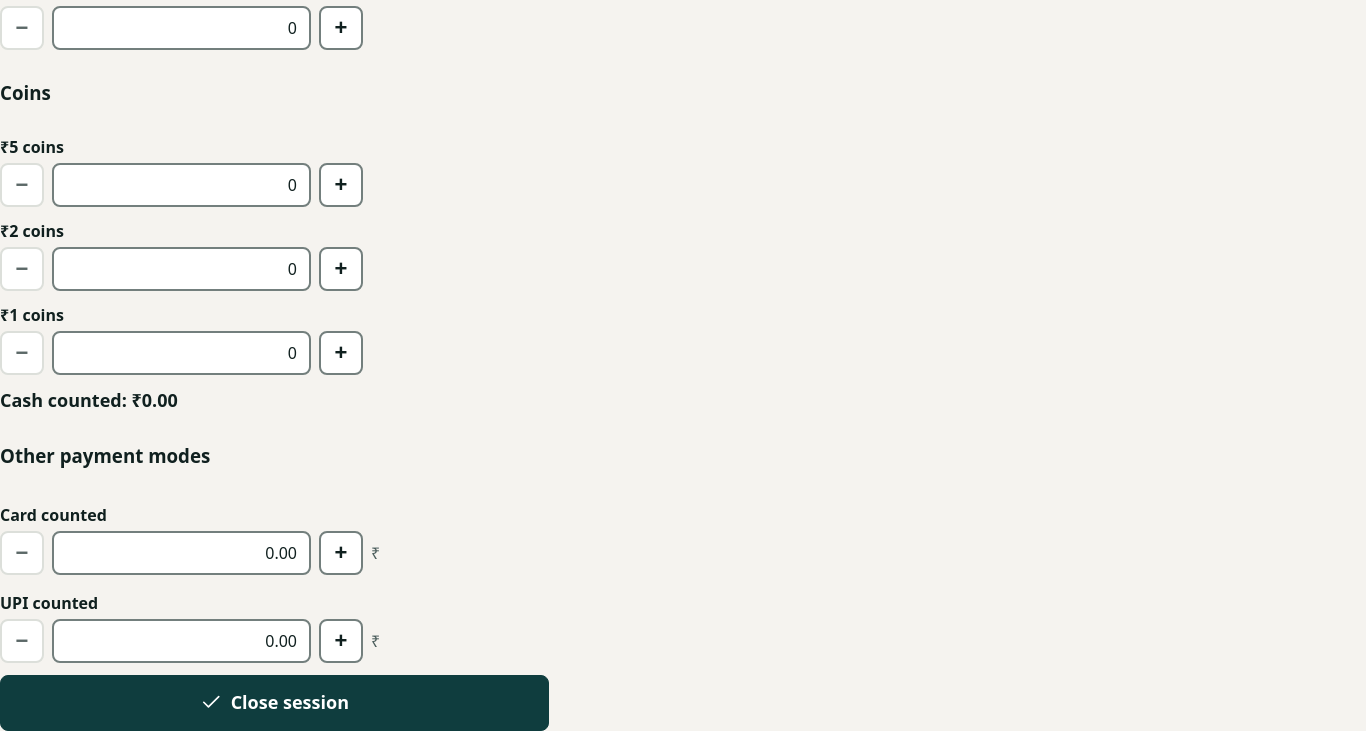
picking the signed-in cashier’s own open session › closes the signed-in cashier’s own session, never a colleague’s
The image size is (1366, 731).
(page scrolled)
Expected: the field labelled "₹10 notes" is shown, [52,6,311,50]
Click the button "Close session": (275, 702) [0,674,549,730]
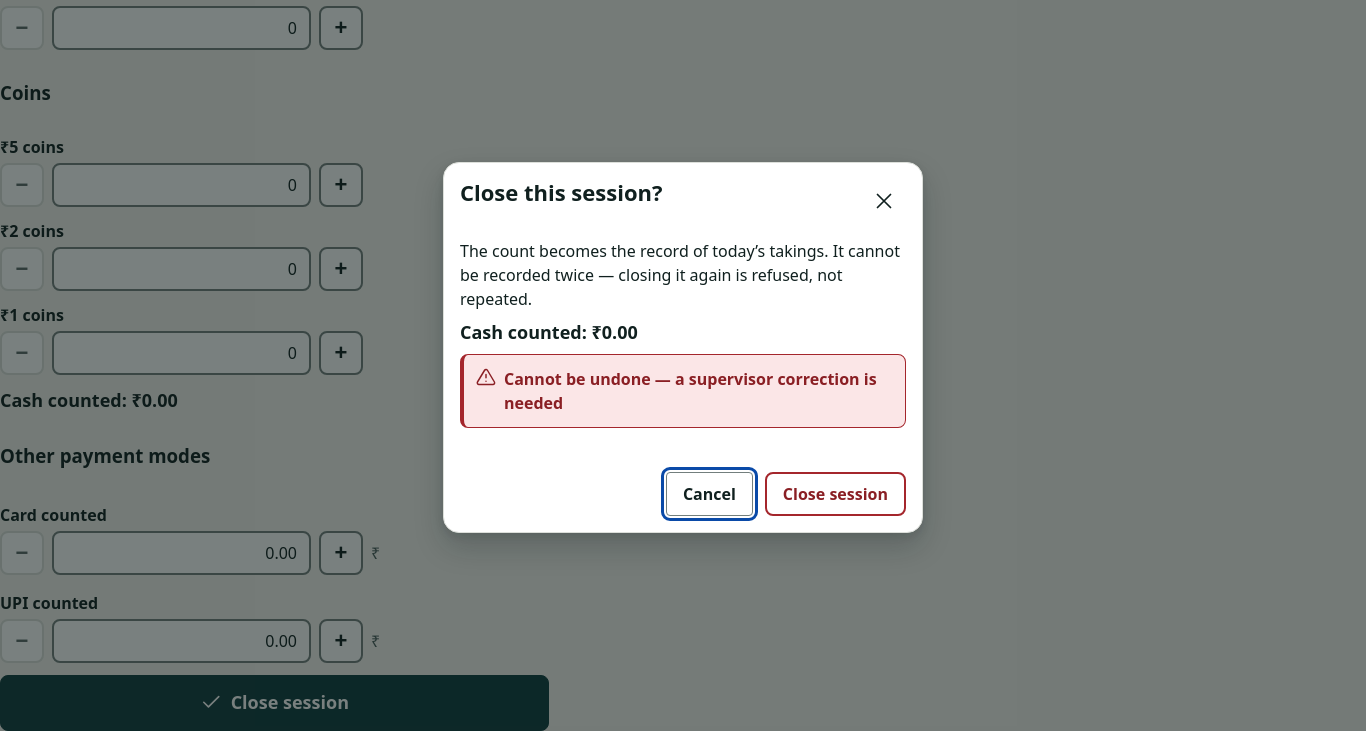
Click the button "Close session": (835, 494) [765,472,906,516]
(page scrolled)
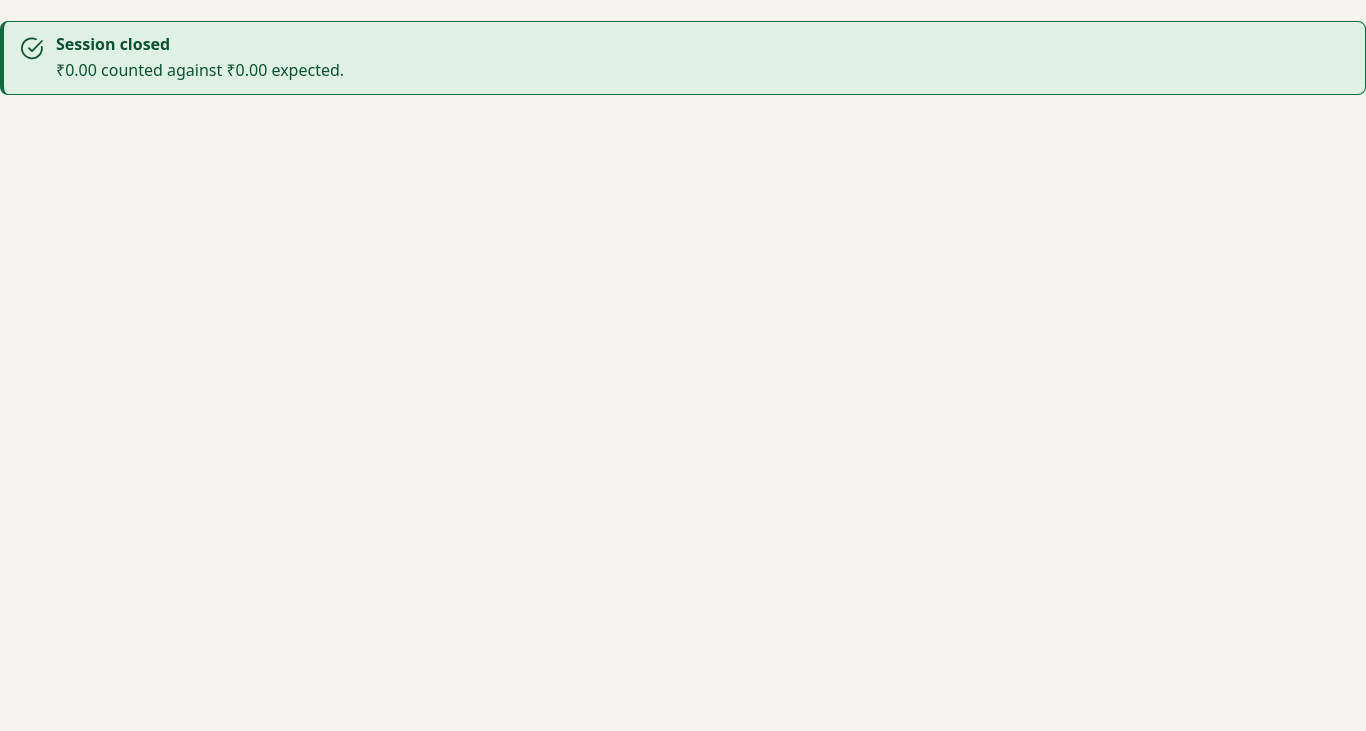
Expected: the text "Session closed" is shown, [56,33,170,55]
